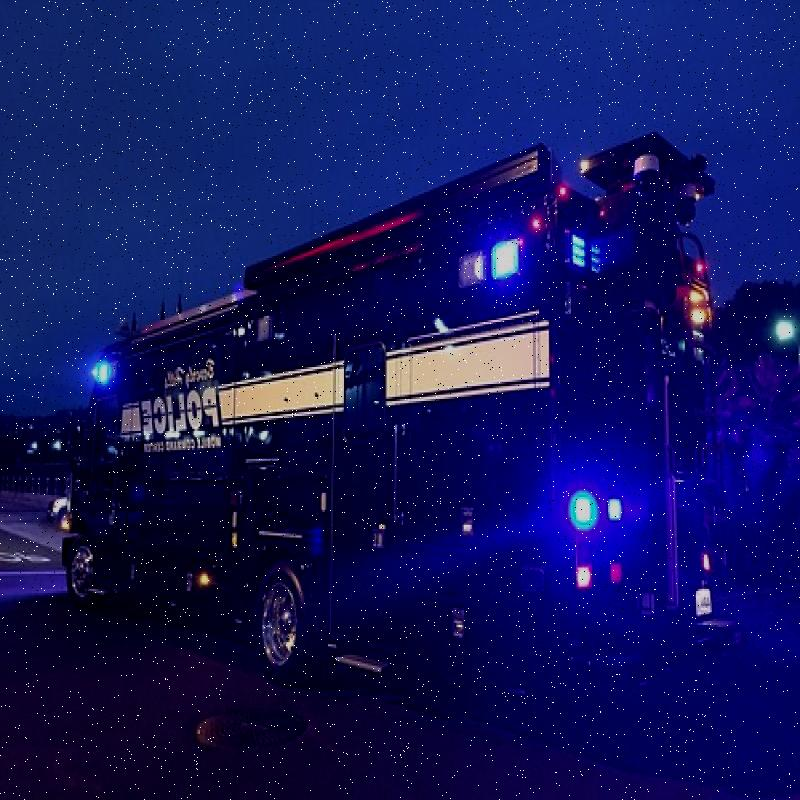AmbulanceSiren: (458, 217, 569, 304)
